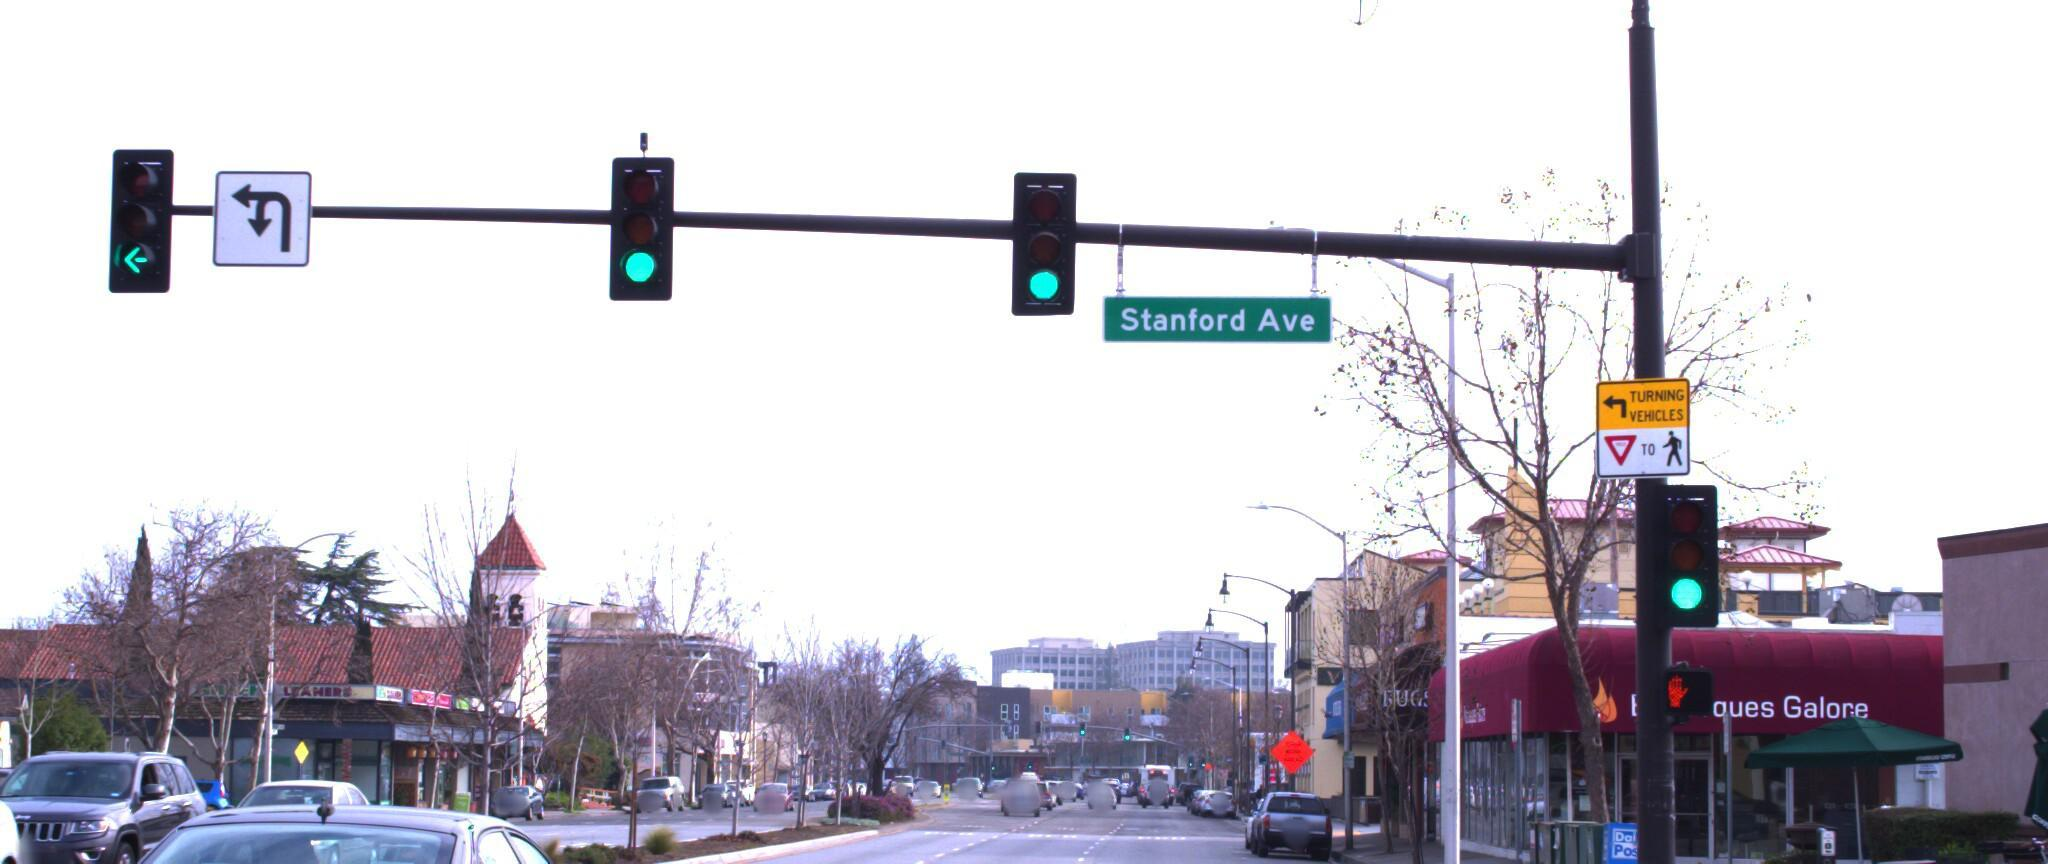bicycle: (1898, 817, 2048, 864)
car: (0, 773, 669, 864), (0, 730, 235, 864), (204, 754, 391, 864), (1236, 765, 1335, 839), (0, 747, 48, 864)
